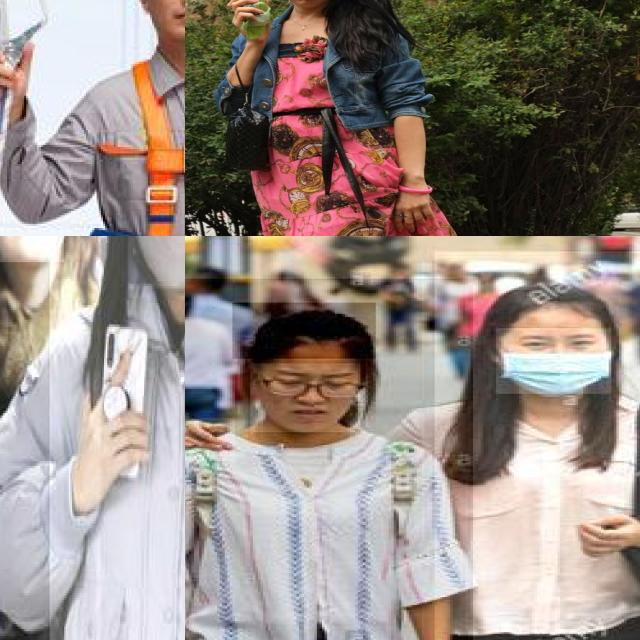Harness: (98, 53, 185, 236)
face_mask: (496, 328, 614, 396), (128, 236, 185, 291)
face_nomask: (250, 363, 360, 432)
glasses: (236, 362, 372, 406)
hand_noglove: (562, 512, 640, 561), (185, 418, 235, 461)
head_nohelmet: (232, 303, 378, 360), (496, 274, 609, 330)
person: (185, 278, 475, 640), (434, 251, 640, 640), (49, 236, 185, 640), (0, 236, 102, 640)
